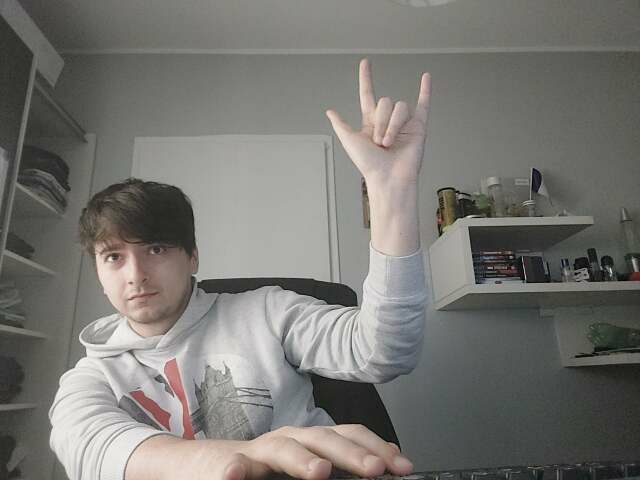love_you: (325, 57, 430, 173)
